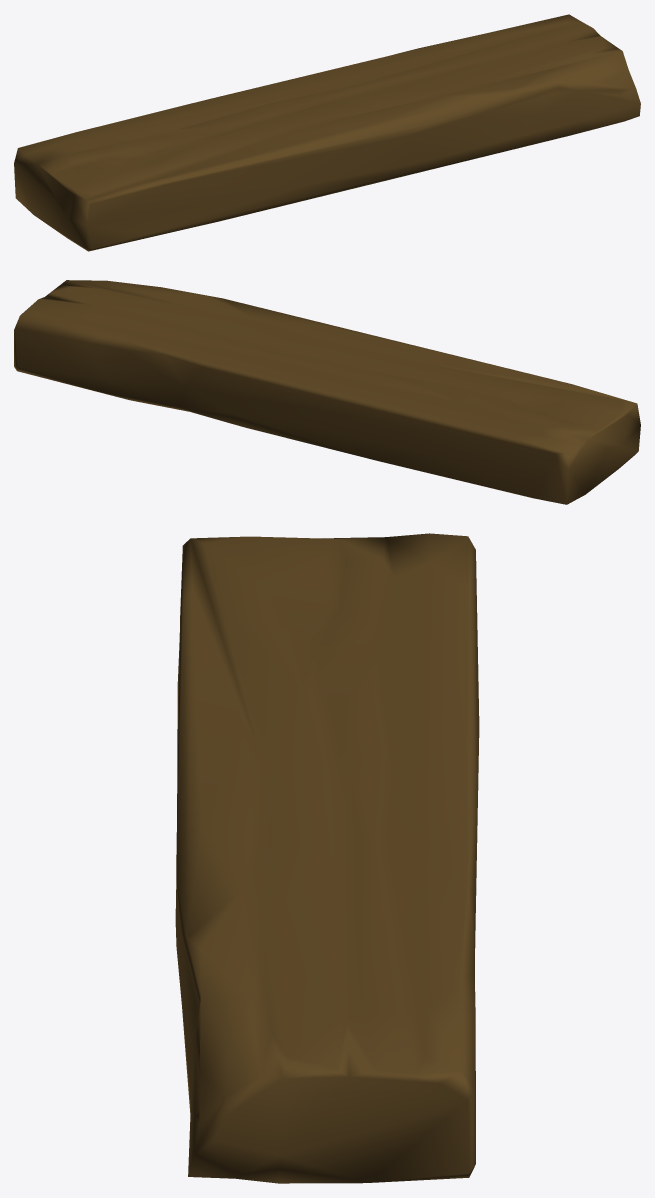
File: SM_Plank03.fbx
3 views of the same model, one above another, from view 1: azimuth 30°, elevation 25°; view 2: azimuth 150°, elevation 25°; view 3: azimuth 270°, elevation 25° (orthographic). The views are drawn at different scales.
Visible parts, largest first — view 1: SM_Plank03; view 2: SM_Plank03; view 3: SM_Plank03.
Part boxes in pixels (box(x1,y1,x2,y2)): SM_Plank03: box(14, 14, 640, 251); SM_Plank03: box(14, 280, 640, 504); SM_Plank03: box(175, 533, 479, 1183).
Size of the model in its own units: 281 by 29.15 by 66.4.
